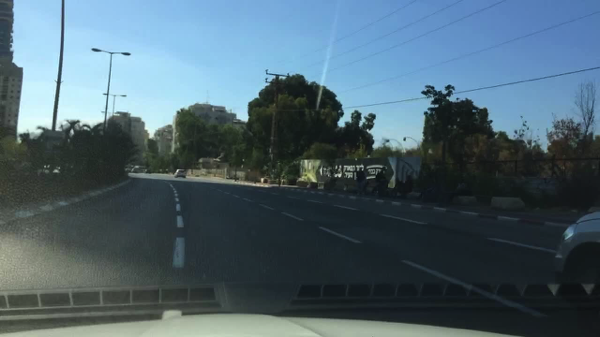car: (552, 206, 599, 296), (131, 164, 148, 174), (174, 168, 187, 178), (158, 167, 169, 174), (124, 164, 133, 172), (145, 168, 152, 174), (225, 174, 233, 179), (233, 175, 239, 180)
person: (398, 171, 414, 202), (374, 166, 388, 200), (354, 165, 364, 195), (327, 173, 336, 194)
